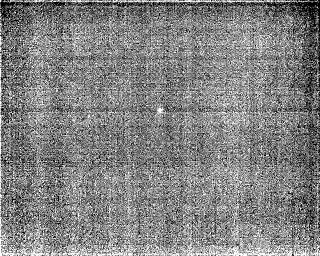BIRD: (153, 104, 167, 118)
